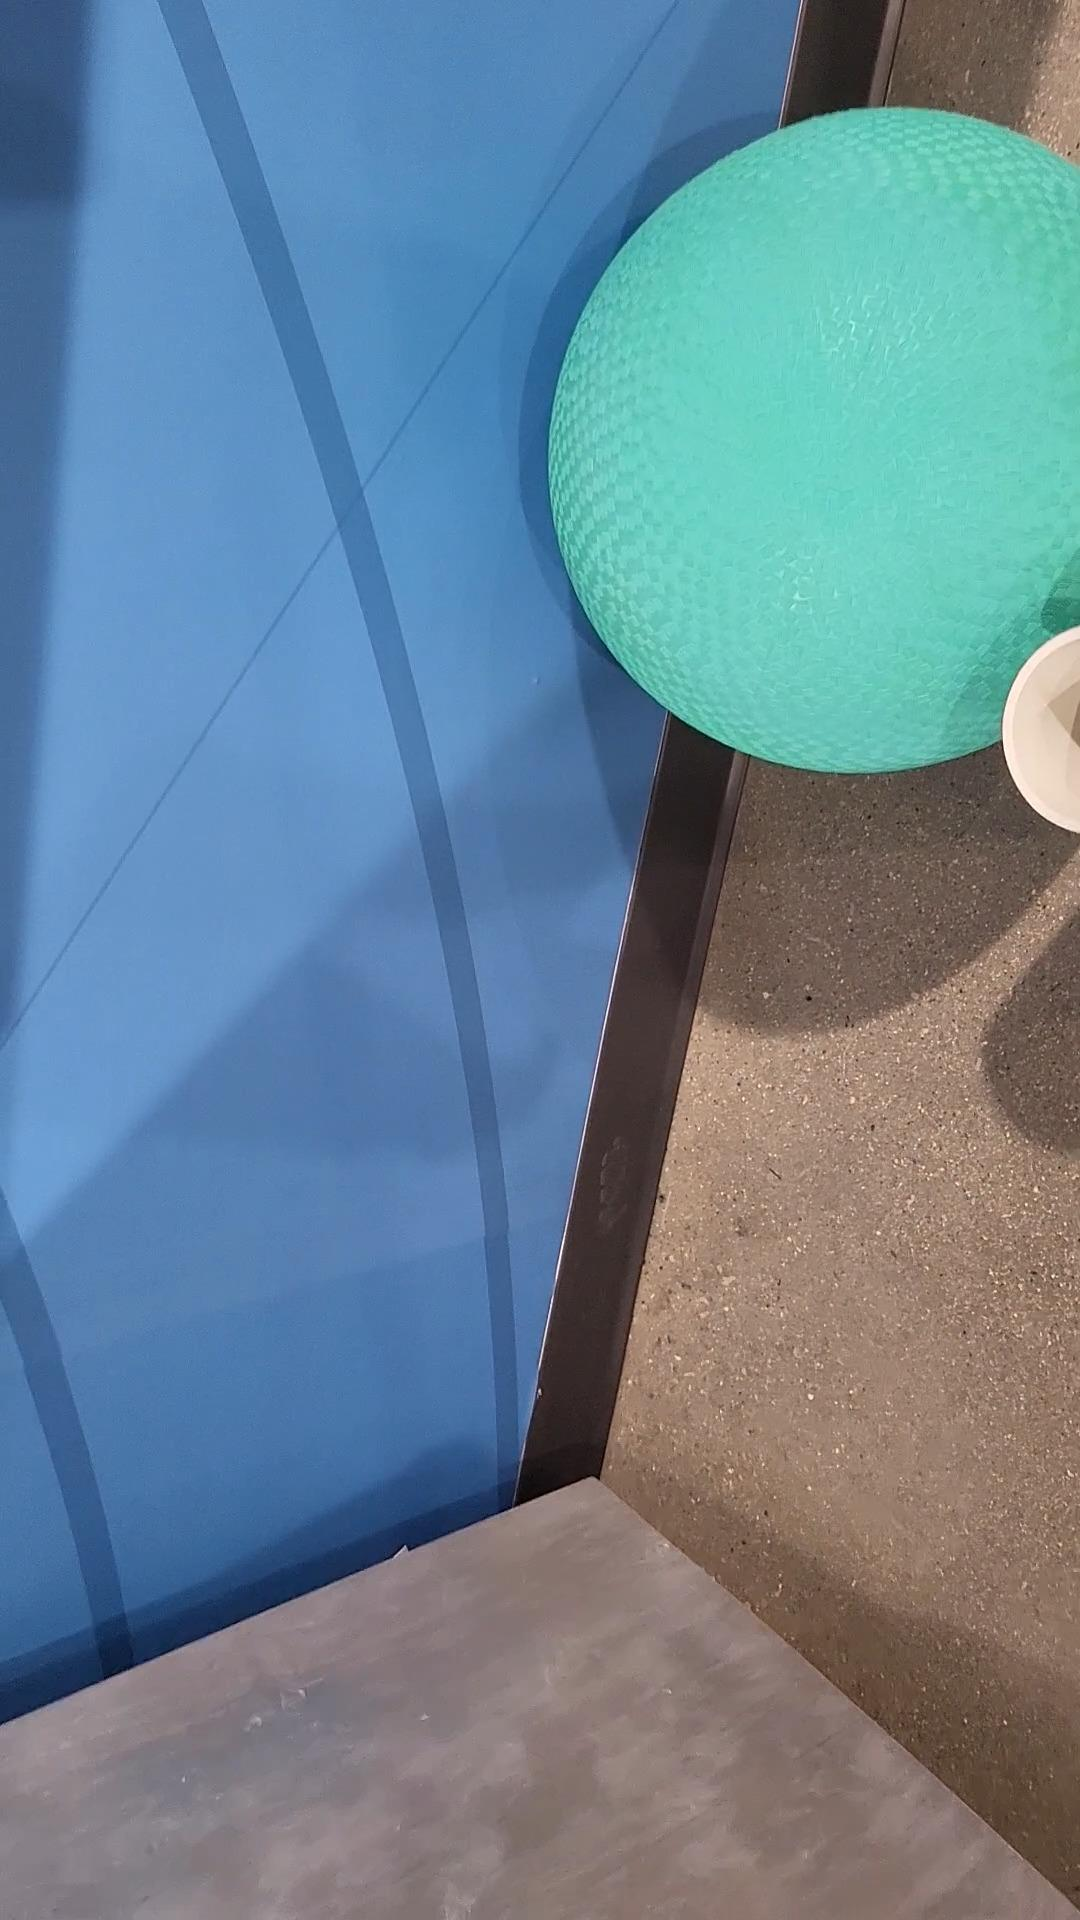algae: (550, 112, 1080, 770)
coral: (1005, 628, 1079, 832)
